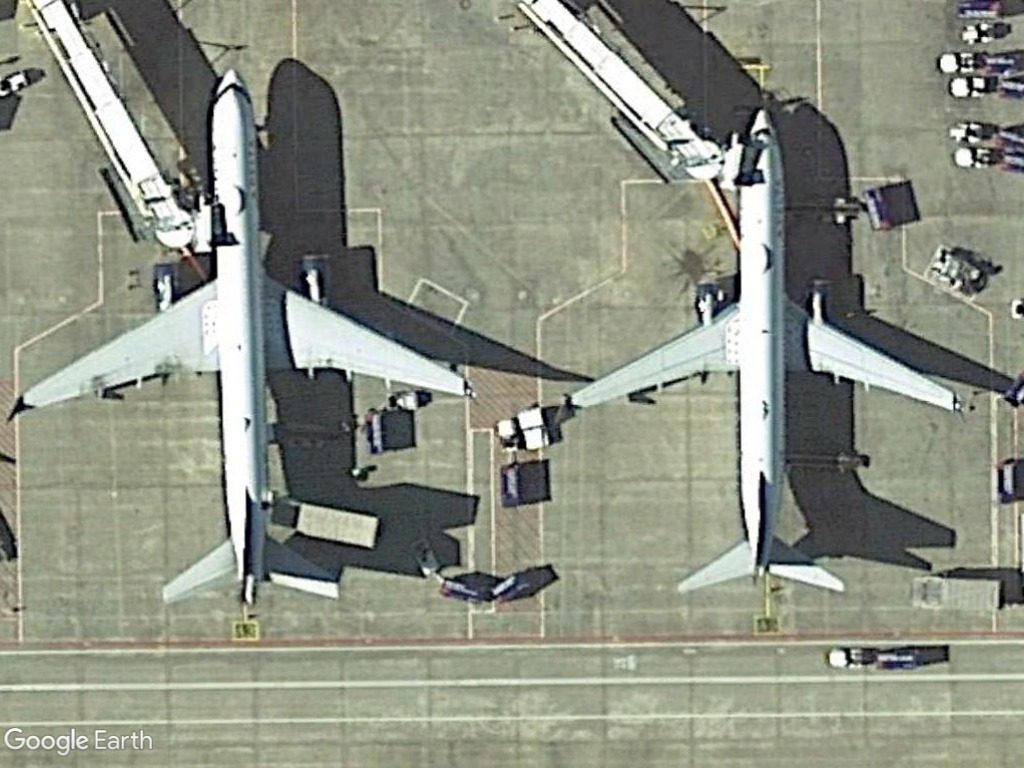airliner: (11, 64, 469, 608), (552, 97, 966, 619)
